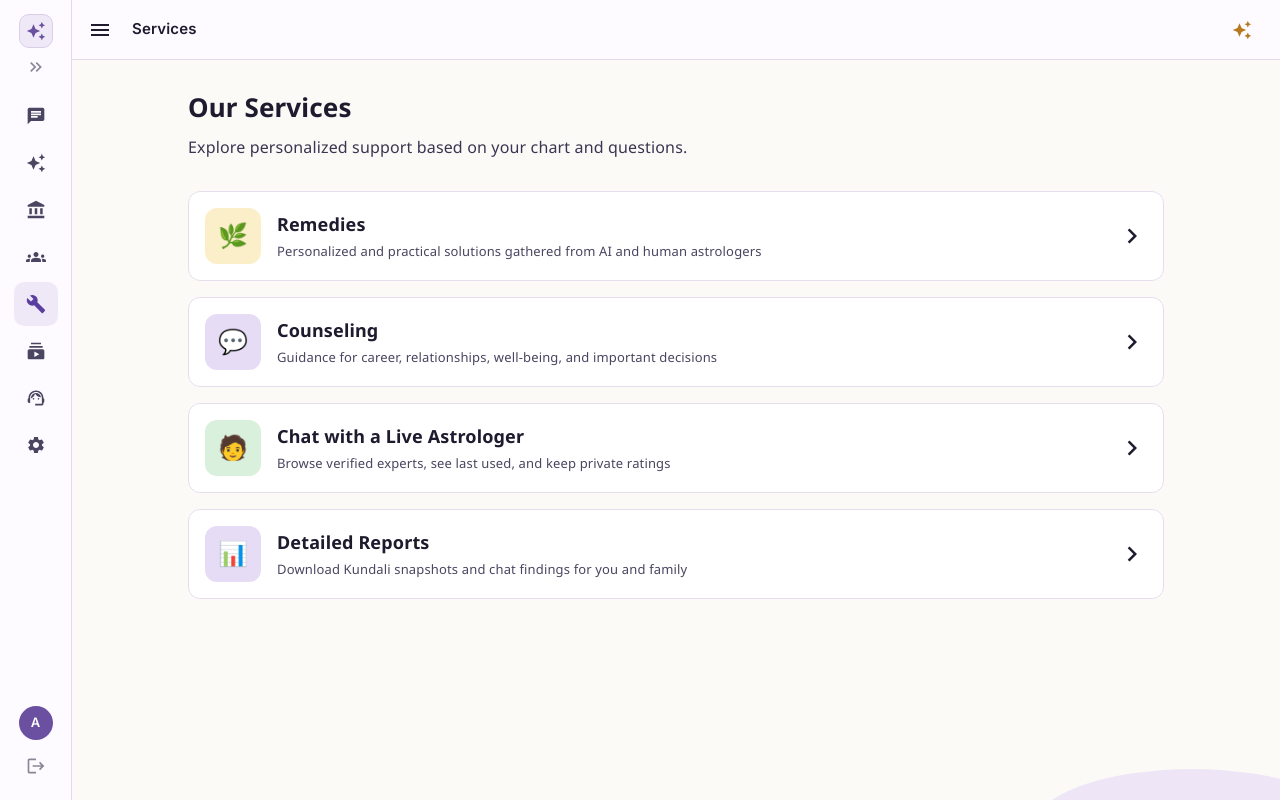
it: services open dedicated reports, astrologers and remedies pages
Click the text "Detailed Reports" at (353, 542), box [277,530,430,554]
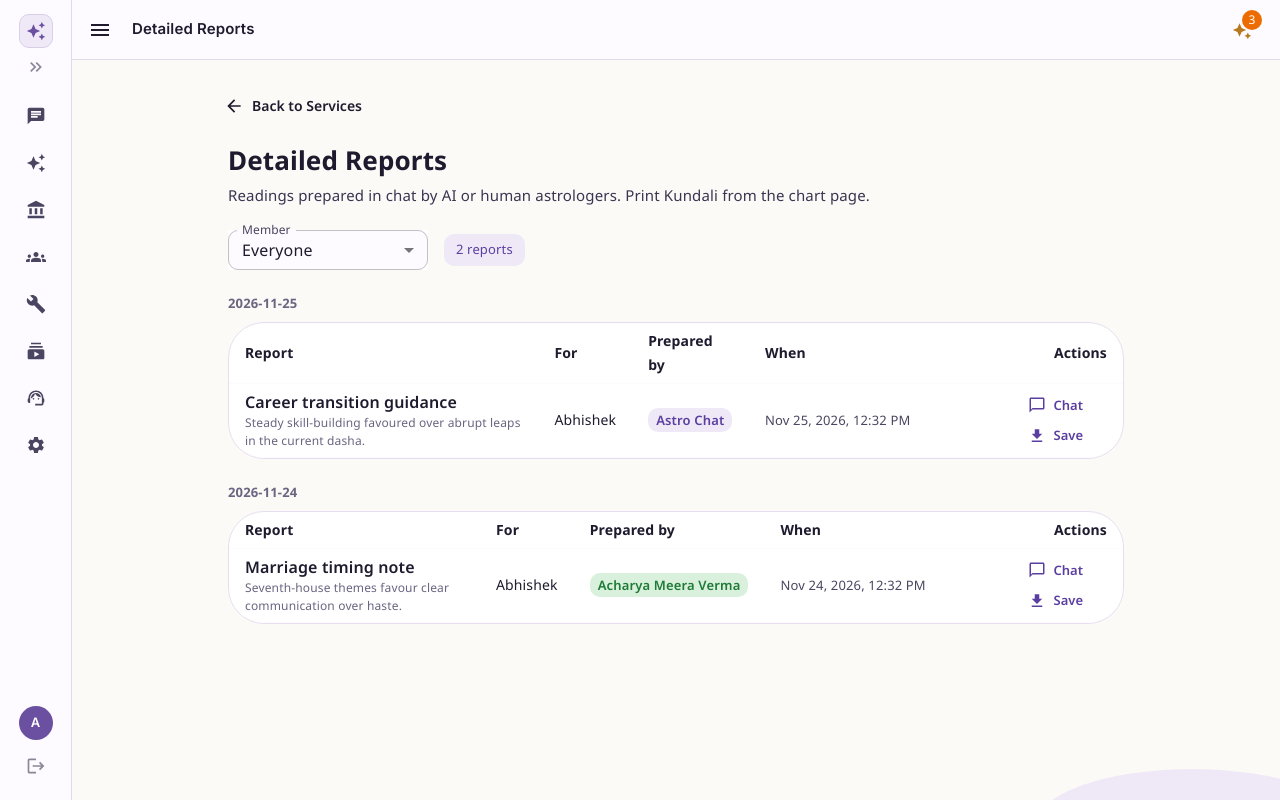
Expected: the heading "Detailed Reports" is shown, [228,142,447,178]
Expected: the 1st column heading "Prepared by" is shown, [632,322,749,383]
